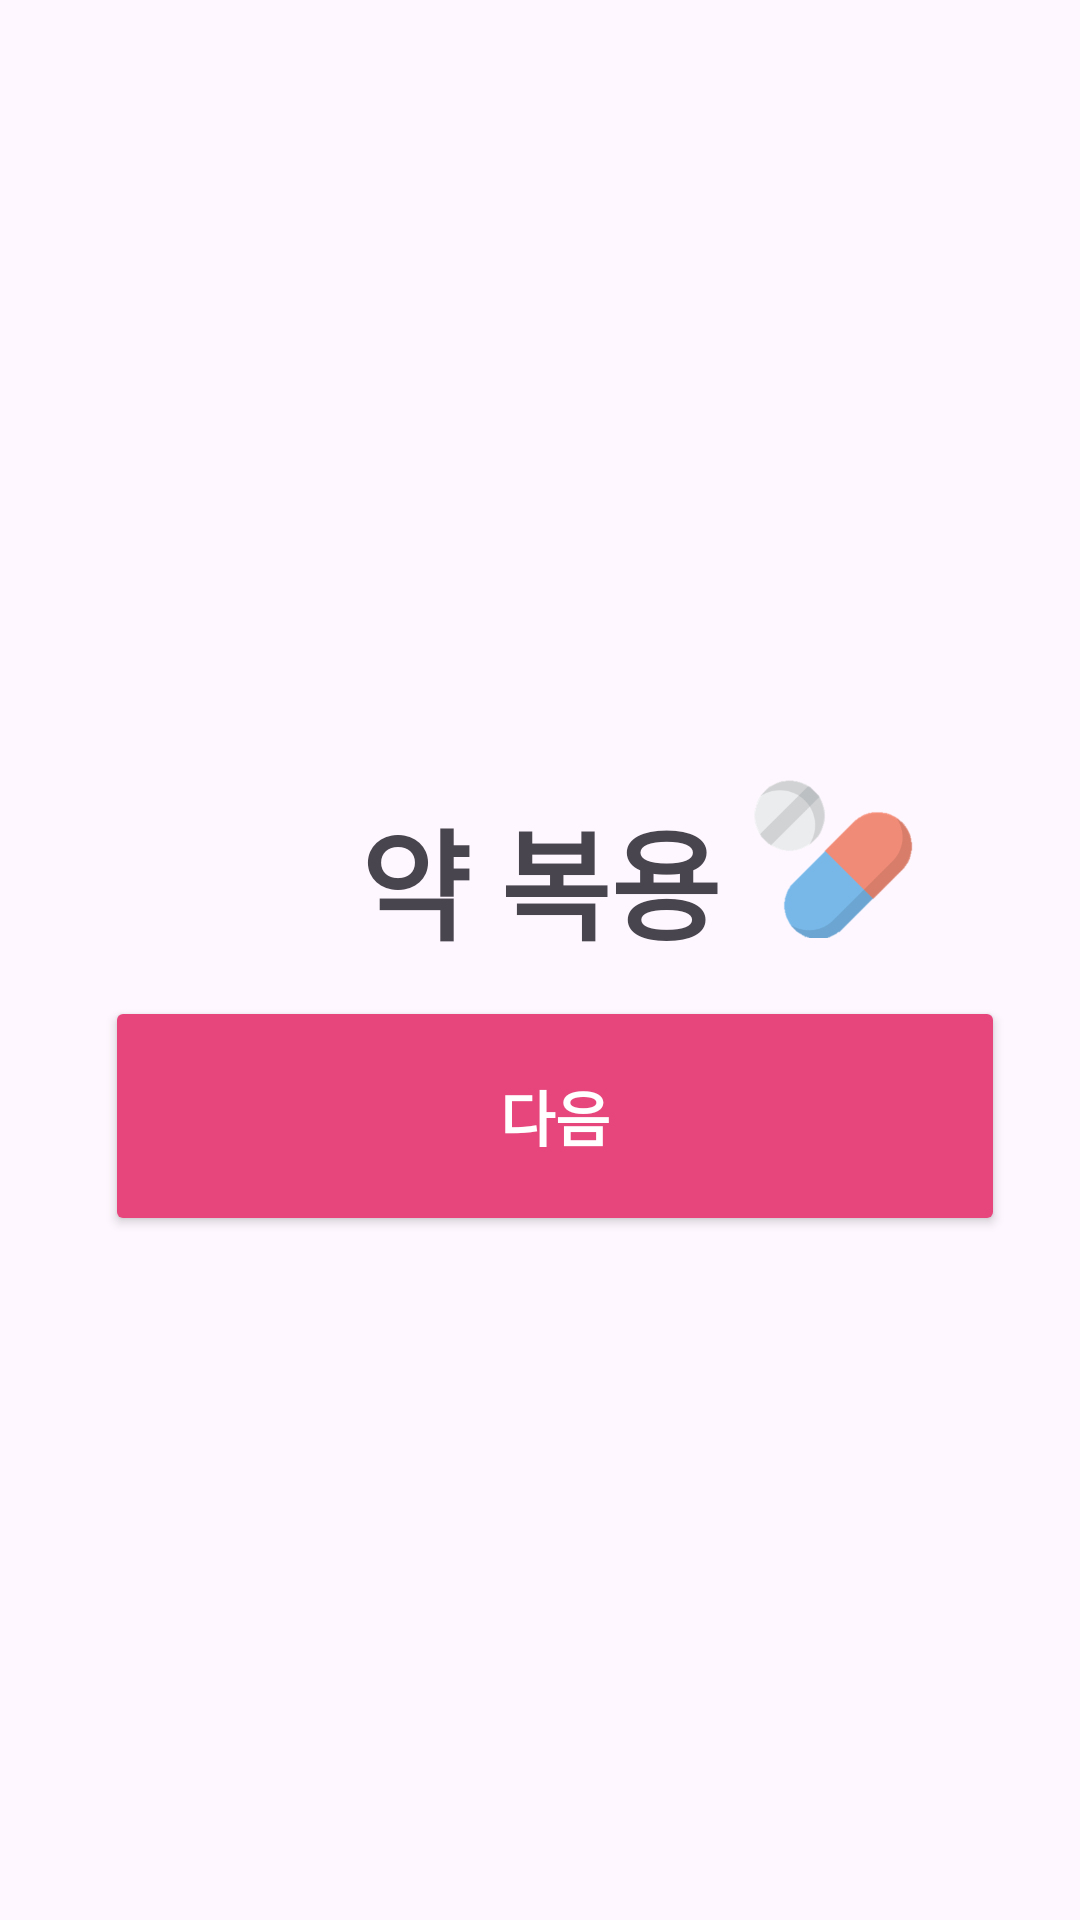

Icon bounding boxes for this 1080px x 1920px phone screenshot, format (x1, y1, x2, y2):
medi: (760, 781, 912, 938)
